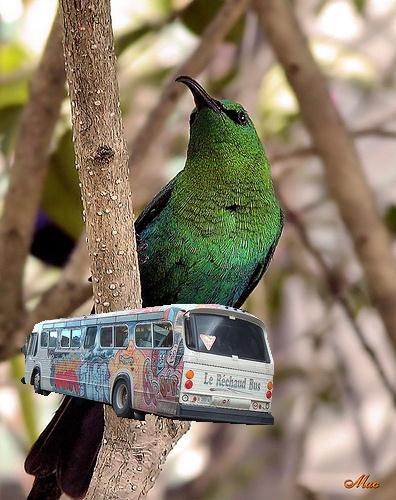tampered: (22, 305, 274, 425)
